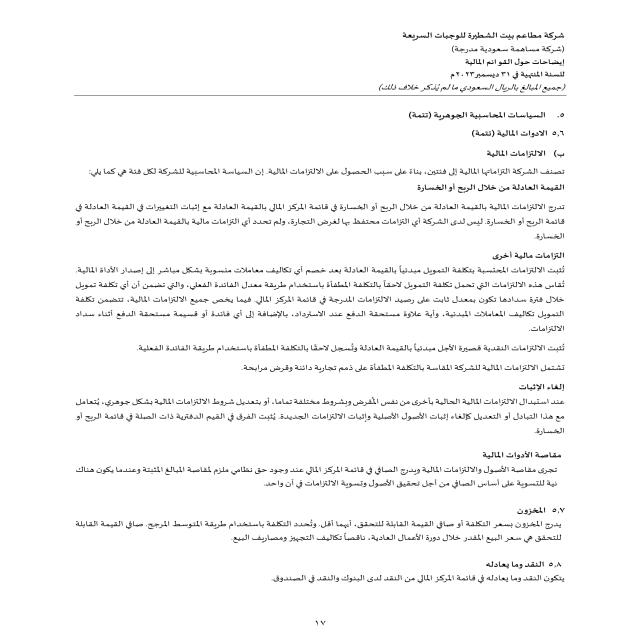notes: (460, 57, 567, 70)
text: (36, 105, 581, 592)
